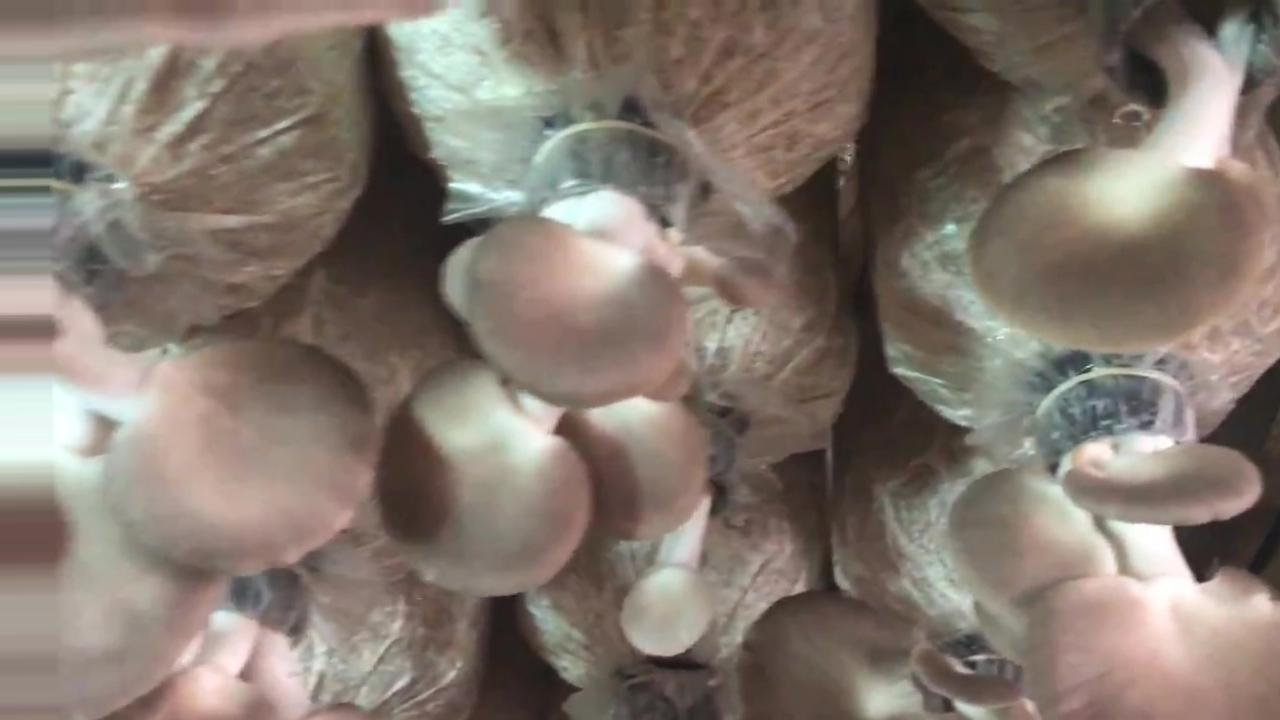nam: (1, 170, 381, 720), (380, 117, 775, 597), (740, 366, 1280, 715), (969, 1, 1276, 349), (117, 575, 361, 720), (618, 405, 738, 658)
